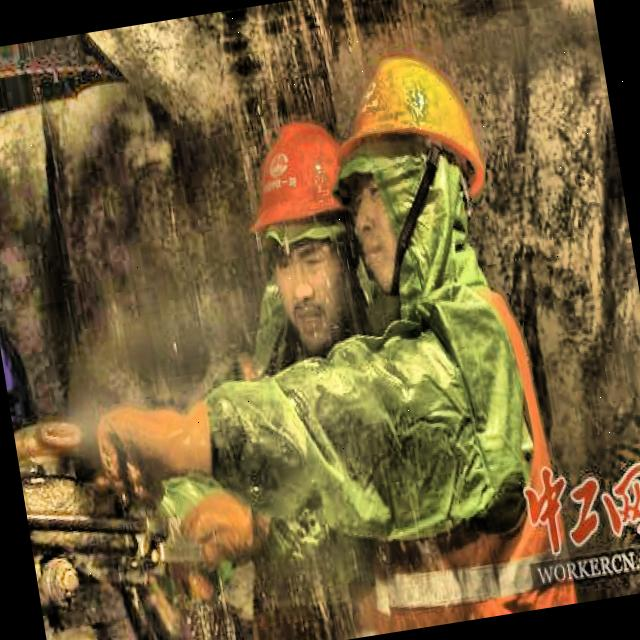helmet: (322, 25, 510, 316), (238, 112, 376, 338)
